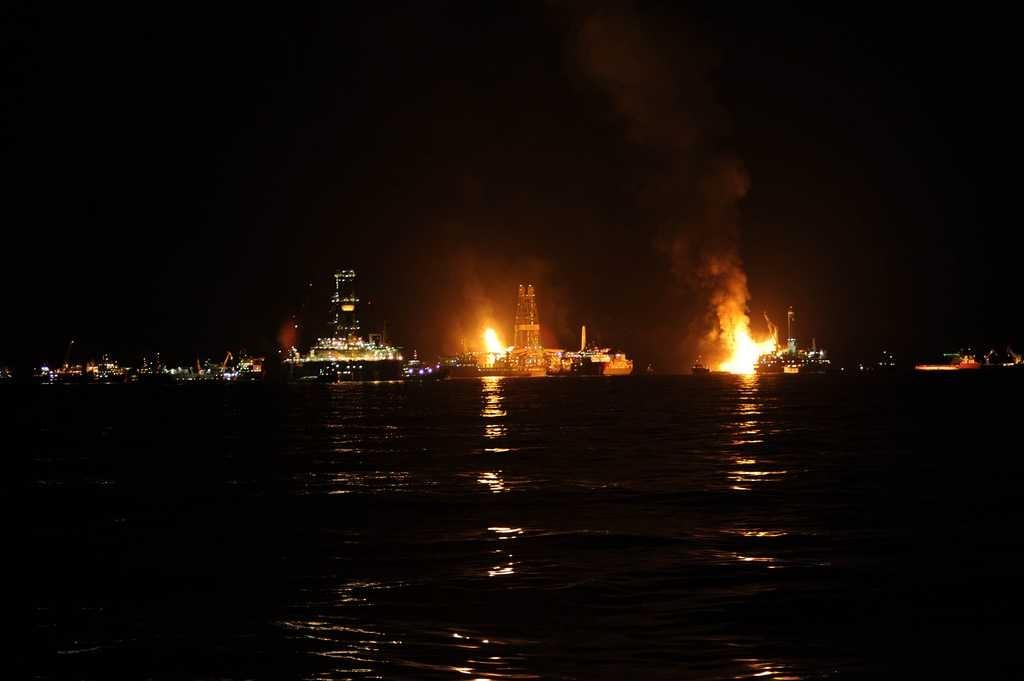fire: (725, 313, 753, 373), (482, 325, 507, 358)
